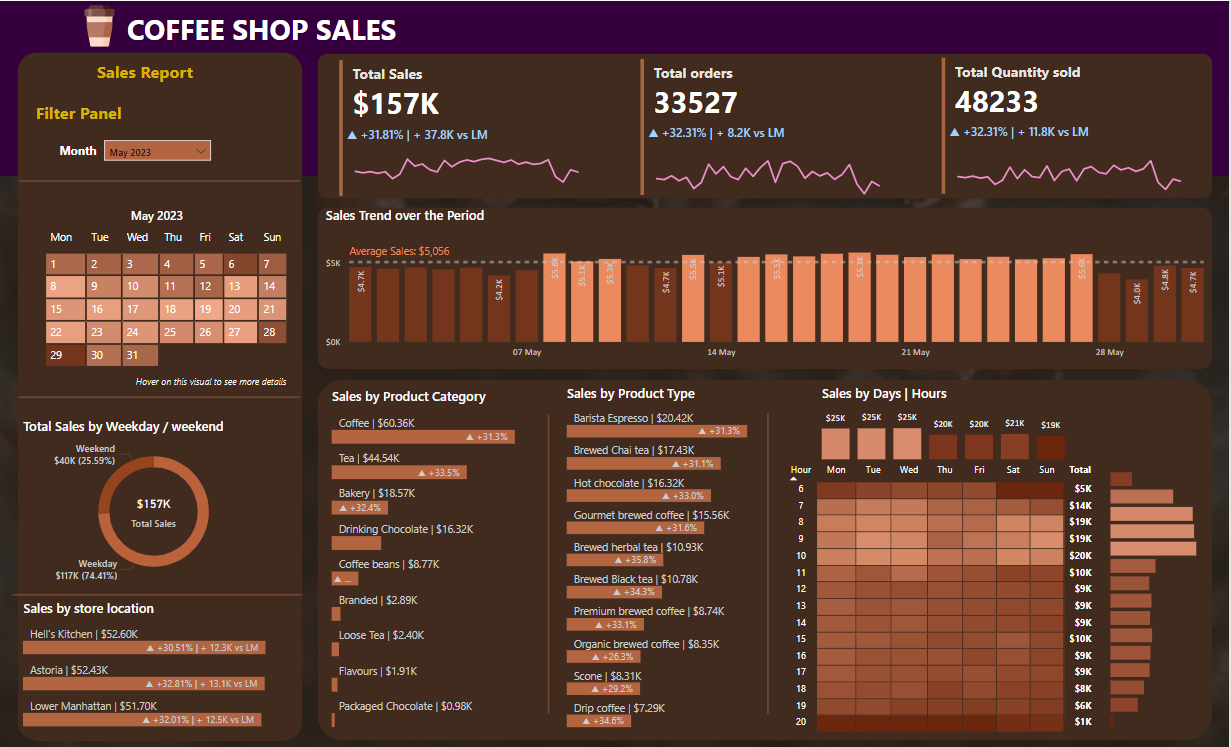

The page's visual inventory and layout, read from the dashboard file:
{"tool":"powerbi","page":{"name":"Coffee Shop Sales","canvas":[1400,850],"ordinal":0},"visuals":[{"type":"cardVisual","fields":{"Data":["Date Table.Total Quantity sold"]},"box":[1068.2,59.3,300.5,165.2],"z":0,"group":"g3"},{"type":"cardVisual","fields":{"Data":["Date Table.Total orders"]},"box":[724.9,60.7,300.5,165.2],"z":0,"group":"g2"},{"type":"cardVisual","fields":{"Data":["Transactions.Total Sales"]},"box":[381.7,62.2,300.5,165.2],"z":0,"group":"g1"},{"type":"shape","box":[361.7,235.4,1019.1,184.6],"z":0},{"type":"lineChart","fields":{"Category":["Date Table.Date.Variation.Date Hierarchy.Year","Date Table.Date.Variation.Date Hierarchy.Quarter","Date Table.Date.Variation.Date Hierarchy.Month","Date Table.Date.Variation.Date Hierarchy.Day"],"Y":["Date Table.Total Quantity sold"]},"box":[1076.7,139.1,283.4,85.5],"z":1000,"group":"g3"},{"type":"lineChart","fields":{"Category":["Date Table.Date.Variation.Date Hierarchy.Year","Date Table.Date.Variation.Date Hierarchy.Quarter","Date Table.Date.Variation.Date Hierarchy.Month","Date Table.Date.Variation.Date Hierarchy.Day"],"Y":["Date Table.Total orders"]},"box":[733.4,140.5,283.4,85.5],"z":1000,"group":"g2"},{"type":"lineChart","fields":{"Category":["Date Table.Date.Variation.Date Hierarchy.Year","Date Table.Date.Variation.Date Hierarchy.Quarter","Date Table.Date.Variation.Date Hierarchy.Month","Date Table.Date.Variation.Date Hierarchy.Day"],"Y":["Transactions.Total Sales"]},"box":[390.2,142,283.4,85.5],"z":1000,"group":"g1"},{"type":"shape","box":[362.2,431.9,1019.1,411.2],"z":1000},{"type":"shape","box":[0,0,1400.3,199.6],"z":2000},{"type":"shape","box":[20,57.8,324.7,784.8],"z":3000},{"type":"shape","box":[361.7,59.3,1019.8,165.2],"z":4000},{"type":"textbox","box":[139.6,5.7,337.6,54.1],"z":5000},{"type":"slicer","fields":{"Values":["Date Table.Month_year"]},"box":[113.9,153.8,131,39.9],"z":6000},{"type":"group","id":"g1","title":"Group 1","box":[381.7,62.2,300.5,165.2],"z":7000},{"type":"group","id":"g2","title":"Group 1","box":[724.9,60.7,300.5,165.2],"z":8000},{"type":"group","id":"g3","title":"Group 1","box":[1068.2,59.3,300.5,165.2],"z":9000},{"type":"pivotTable","fields":{"Rows":["Date Table.Weeknum"],"Columns":["Date Table.Day name"],"Values":["Min(Date Table.Day_num)"]},"box":[21.3,234.5,314.8,216.5],"z":10000},{"type":"card","fields":{"Values":["Transactions.Foot Note"]},"box":[139.6,421.1,202.2,29.9],"z":11000},{"type":"shape","box":[21.3,439.6,320.5,22.8],"z":12000},{"type":"shape","box":[21.3,193.2,320.5,22.8],"z":13000},{"type":"donutChart","fields":{"Category":["Date Table.Weekday / weekend"],"Y":["Transactions.Total Sales"]},"box":[21.3,473.8,307.6,195.1],"z":14000},{"type":"card","fields":{"Values":["Transactions.Total Sales"]},"box":[138.1,553.5,74.1,54.1],"z":15000},{"type":"shape","box":[14.2,664.6,330.4,22.8],"z":16000},{"type":"clusteredBarChart","title":"Sales by store location","fields":{"Category":["Transactions.store_location"],"Y":["Transactions.Placeholder","Transactions.Total Sales"]},"box":[21.5,680.7,315.2,153.1],"z":17000},{"type":"columnChart","title":"Sales Trend over the Period","fields":{"Category":["Transactions.transaction_date"],"Y":["Transactions.Total Sales"]},"box":[366.2,233.9,1014.6,183.1],"z":18000},{"type":"clusteredBarChart","title":"Sales by Product Category","fields":{"Category":["Transactions.product_category"],"Y":["Transactions.Placeholder","Transactions.Total Sales"]},"box":[373.2,440.1,250.7,393.1],"z":19000},{"type":"shape","box":[615.3,471.5,19.5,340.7],"z":20000},{"type":"clusteredBarChart","title":"Sales by Product Type","fields":{"Y":["Transactions.Placeholder","Transactions.Total Sales"],"Category":["Transactions.product_type"]},"box":[640.9,435.8,250.7,397.4],"z":21000},{"type":"shape","box":[866,470,18,342.2],"z":22000},{"type":"pivotTable","fields":{"Rows":["Transactions.Hour"],"Columns":["Date Table.Day name"],"Values":["Transactions.Total Sales"]},"box":[890,520.8,370.7,325.7],"z":23000},{"type":"barChart","fields":{"Y":["Transactions.Total Sales"],"Category":["Transactions.Hour"]},"box":[1261.2,523.4,109.6,310.7],"z":24000},{"type":"columnChart","title":"Sales by Days | Hours","fields":{"Y":["Transactions.Total Sales"],"Category":["Date Table.Day name"]},"box":[931.5,435.8,287.7,92.6],"z":25000},{"type":"textbox","box":[62.7,156.7,64.1,28.5],"z":25001},{"type":"textbox","box":[105.4,62.7,139.6,37],"z":25002},{"type":"image","box":[82.6,0,61.2,57],"z":25003},{"type":"textbox","box":[35.6,109.7,139.6,35.6],"z":25004}]}

Visuals, with their boxes in screenshot pixels (x1, y1, x2, y2), scaled from the page's 1400x850 canvas onto the 1231x747 screenshot:
cardVisual - Date Table.Total Quantity sold: (left=939, top=52, right=1203, bottom=197)
cardVisual - Date Table.Total orders: (left=637, top=53, right=902, bottom=199)
cardVisual - Transactions.Total Sales: (left=336, top=55, right=600, bottom=200)
shape: (left=318, top=207, right=1214, bottom=369)
lineChart - Date Table.Date.Variation.Date Hierarchy.Year x Date Table.Date.Variation.Date Hierarchy.Quarter: (left=947, top=122, right=1196, bottom=197)
lineChart - Date Table.Date.Variation.Date Hierarchy.Year x Date Table.Date.Variation.Date Hierarchy.Quarter: (left=645, top=123, right=894, bottom=199)
lineChart - Date Table.Date.Variation.Date Hierarchy.Year x Date Table.Date.Variation.Date Hierarchy.Quarter: (left=343, top=125, right=592, bottom=200)
shape: (left=318, top=380, right=1215, bottom=741)
shape: (left=0, top=0, right=1230, bottom=175)
shape: (left=18, top=51, right=303, bottom=740)
shape: (left=318, top=52, right=1215, bottom=197)
textbox: (left=123, top=5, right=420, bottom=53)
slicer - Date Table.Month_year: (left=100, top=135, right=215, bottom=170)
"Group 1" group: (left=336, top=55, right=600, bottom=200)
"Group 1" group: (left=637, top=53, right=902, bottom=199)
"Group 1" group: (left=939, top=52, right=1203, bottom=197)
pivotTable - Date Table.Weeknum x Date Table.Day name: (left=19, top=206, right=296, bottom=396)
card - Transactions.Foot Note: (left=123, top=370, right=301, bottom=396)
shape: (left=19, top=386, right=301, bottom=406)
shape: (left=19, top=170, right=301, bottom=190)
donutChart - Date Table.Weekday / weekend x Transactions.Total Sales: (left=19, top=416, right=289, bottom=588)
card - Transactions.Total Sales: (left=121, top=486, right=187, bottom=534)
shape: (left=12, top=584, right=303, bottom=604)
"Sales by store location" clusteredBarChart: (left=19, top=598, right=296, bottom=733)
"Sales Trend over the Period" columnChart: (left=322, top=206, right=1214, bottom=366)
"Sales by Product Category" clusteredBarChart: (left=328, top=387, right=549, bottom=732)
shape: (left=541, top=414, right=558, bottom=714)
"Sales by Product Type" clusteredBarChart: (left=564, top=383, right=784, bottom=732)
shape: (left=761, top=413, right=777, bottom=714)
pivotTable - Transactions.Hour x Date Table.Day name: (left=783, top=458, right=1109, bottom=744)
barChart - Transactions.Total Sales x Transactions.Hour: (left=1109, top=460, right=1205, bottom=733)
"Sales by Days | Hours" columnChart: (left=819, top=383, right=1072, bottom=464)
textbox: (left=55, top=138, right=111, bottom=163)
textbox: (left=93, top=55, right=215, bottom=88)
image: (left=73, top=0, right=126, bottom=50)
textbox: (left=31, top=96, right=154, bottom=128)
